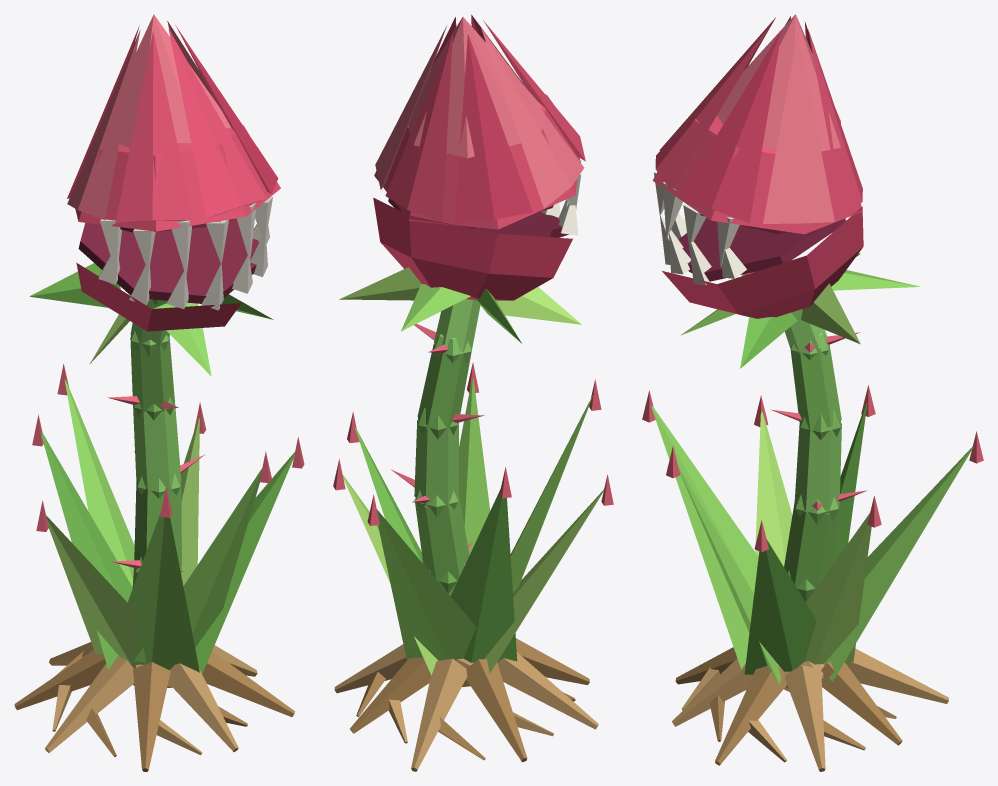
The model's file is snapweed.glb.
3 views of the same model, side by side, from view 1: azimuth 30°, elevation 25°; view 2: azimuth 150°, elevation 25°; view 3: azimuth 270°, elevation 25° (orthographic).
Visible parts, largest first — view 1: snapweed_11_mat_d0162c, snapweed_2_mat_48b020, snapweed_4_mat_2f8a16, snapweed_12_mat_e83244, snapweed_5_mat_6cc82c, snapweed_9_mat_3a0610, snapweed_1_mat_6a3c16, snapweed_0_mat_8a5422, snapweed_10_mat_f6ecd0, snapweed_8_mat_a40e20, snapweed_7_mat_2f7a18, snapweed_6_mat_3f9a22 (+1 smaller); view 2: snapweed_8_mat_a40e20, snapweed_2_mat_48b020, snapweed_12_mat_e83244, snapweed_11_mat_d0162c, snapweed_4_mat_2f8a16, snapweed_0_mat_8a5422, snapweed_5_mat_6cc82c, snapweed_1_mat_6a3c16, snapweed_7_mat_2f7a18, snapweed_6_mat_3f9a22, snapweed_3_mat_d02030, snapweed_9_mat_3a0610 (+1 smaller); view 3: snapweed_8_mat_a40e20, snapweed_2_mat_48b020, snapweed_12_mat_e83244, snapweed_11_mat_d0162c, snapweed_5_mat_6cc82c, snapweed_4_mat_2f8a16, snapweed_0_mat_8a5422, snapweed_7_mat_2f7a18, snapweed_1_mat_6a3c16, snapweed_6_mat_3f9a22, snapweed_9_mat_3a0610, snapweed_10_mat_f6ecd0 (+1 smaller).
Boxes of the visible parts, left/top/right/bottom form: snapweed_11_mat_d0162c: left=75, top=29, right=280, bottom=231; snapweed_2_mat_48b020: left=64, top=302, right=262, bottom=672; snapweed_4_mat_2f8a16: left=29, top=263, right=294, bottom=673; snapweed_12_mat_e83244: left=67, top=14, right=230, bottom=219; snapweed_5_mat_6cc82c: left=46, top=314, right=199, bottom=666; snapweed_9_mat_3a0610: left=78, top=218, right=258, bottom=303; snapweed_1_mat_6a3c16: left=14, top=650, right=294, bottom=771; snapweed_0_mat_8a5422: left=45, top=642, right=257, bottom=755; snapweed_10_mat_f6ecd0: left=98, top=196, right=272, bottom=310; snapweed_8_mat_a40e20: left=67, top=25, right=278, bottom=331; snapweed_7_mat_2f7a18: left=130, top=299, right=181, bottom=575; snapweed_6_mat_3f9a22: left=130, top=299, right=181, bottom=587; snapweed_8_mat_a40e20: left=373, top=17, right=572, bottom=300; snapweed_2_mat_48b020: left=377, top=284, right=592, bottom=660; snapweed_12_mat_e83244: left=375, top=17, right=584, bottom=208; snapweed_11_mat_d0162c: left=374, top=14, right=585, bottom=229; snapweed_4_mat_2f8a16: left=354, top=288, right=521, bottom=662; snapweed_0_mat_8a5422: left=334, top=644, right=598, bottom=771; snapweed_5_mat_6cc82c: left=339, top=267, right=604, bottom=675; snapweed_1_mat_6a3c16: left=350, top=638, right=589, bottom=762; snapweed_7_mat_2f7a18: left=414, top=343, right=471, bottom=593; snapweed_6_mat_3f9a22: left=414, top=299, right=480, bottom=595; snapweed_3_mat_d02030: left=333, top=324, right=613, bottom=549; snapweed_9_mat_3a0610: left=388, top=198, right=568, bottom=237; snapweed_8_mat_a40e20: left=662, top=21, right=863, bottom=318; snapweed_2_mat_48b020: left=651, top=270, right=973, bottom=684; snapweed_12_mat_e83244: left=717, top=14, right=840, bottom=223; snapweed_11_mat_d0162c: left=652, top=17, right=862, bottom=234; snapweed_5_mat_6cc82c: left=742, top=271, right=871, bottom=664; snapweed_4_mat_2f8a16: left=740, top=253, right=867, bottom=674; snapweed_0_mat_8a5422: left=672, top=648, right=948, bottom=771; snapweed_7_mat_2f7a18: left=784, top=344, right=841, bottom=602; snapweed_1_mat_6a3c16: left=675, top=647, right=902, bottom=765; snapweed_6_mat_3f9a22: left=785, top=309, right=841, bottom=524; snapweed_9_mat_3a0610: left=679, top=214, right=845, bottom=281; snapweed_10_mat_f6ecd0: left=654, top=171, right=746, bottom=285.
Size of the model in its own units: 0.8542 by 2.13 by 0.9373.
